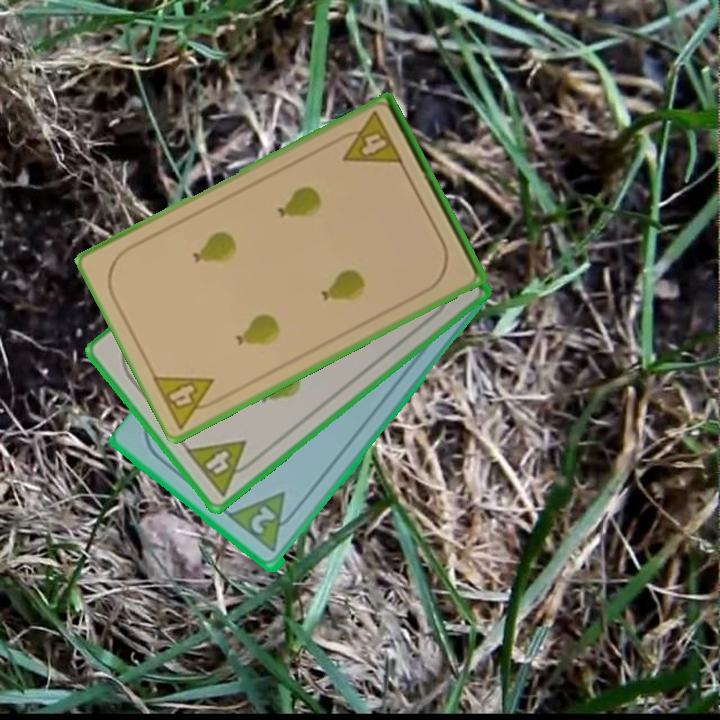2p: (226, 488, 304, 556)
4p: (182, 436, 262, 499), (149, 372, 229, 432), (332, 108, 406, 168)
